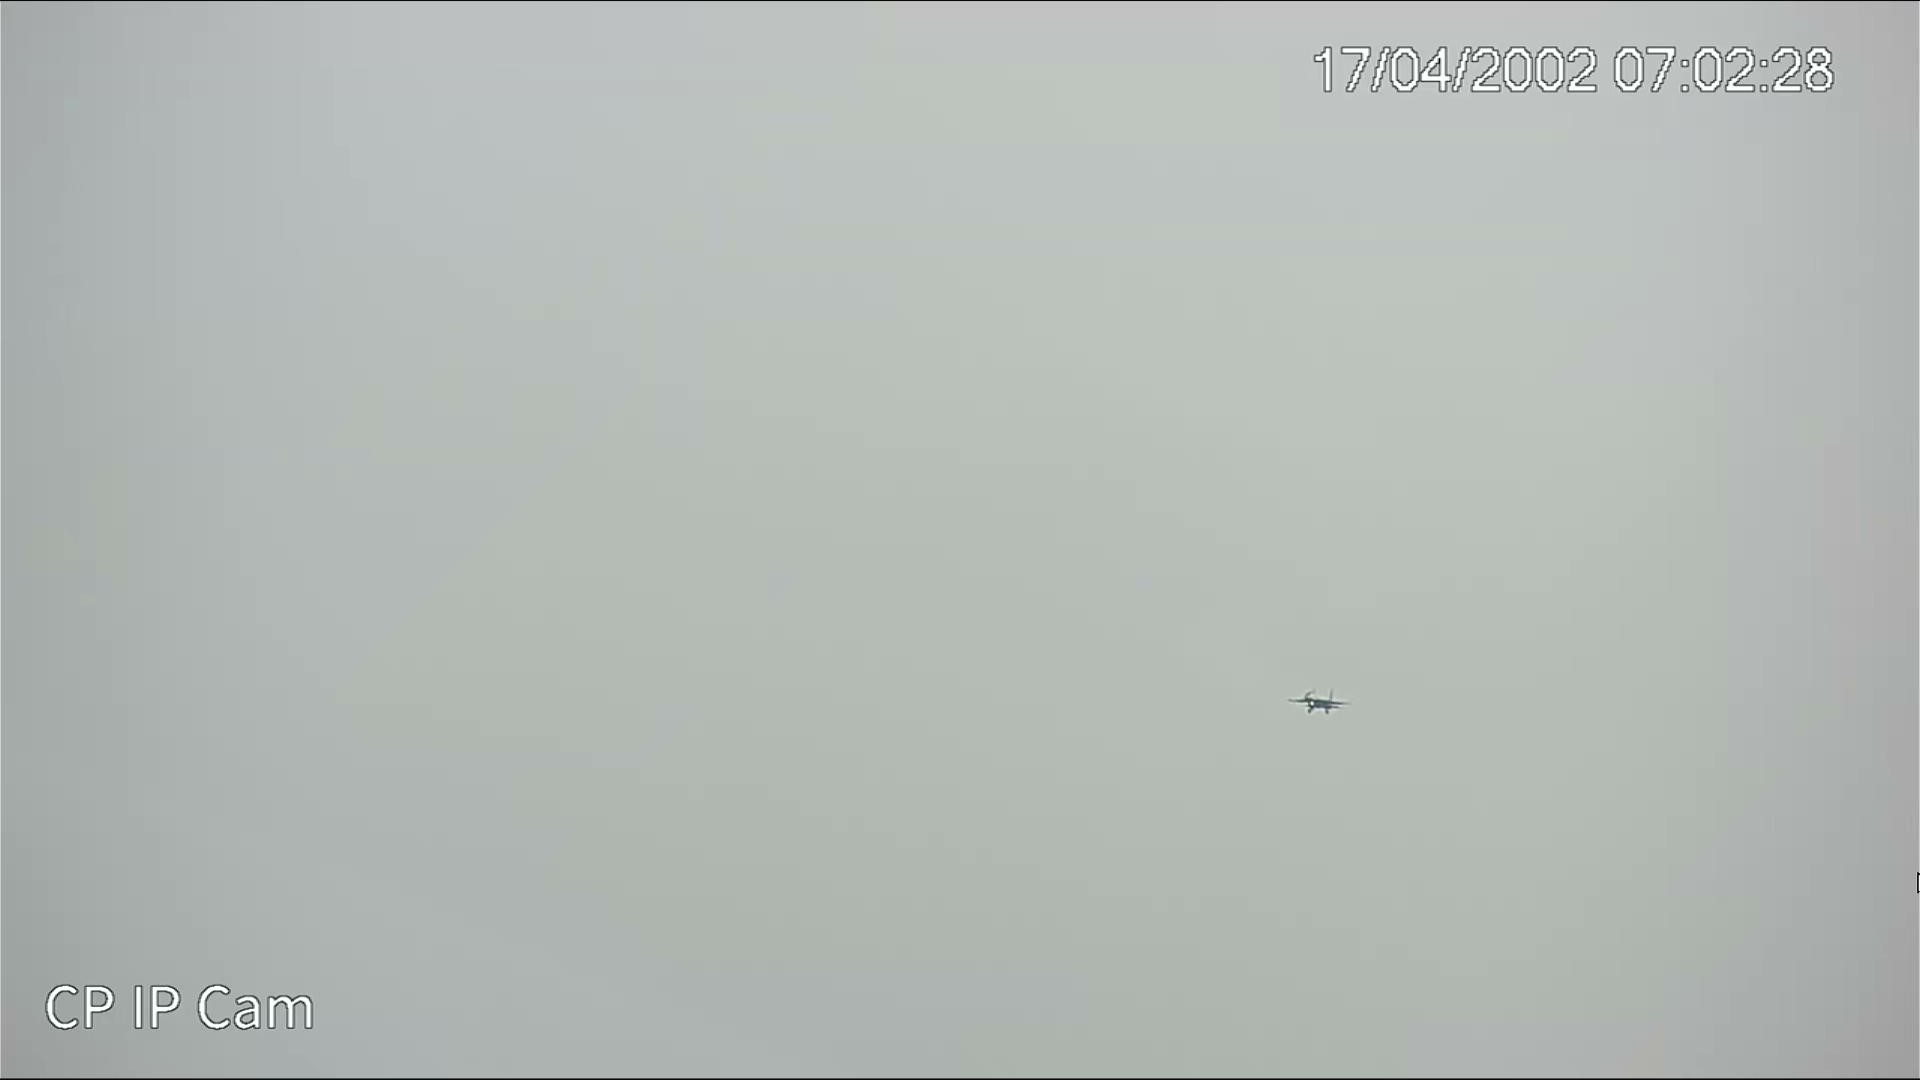SU_30: (1294, 688, 1337, 716)
